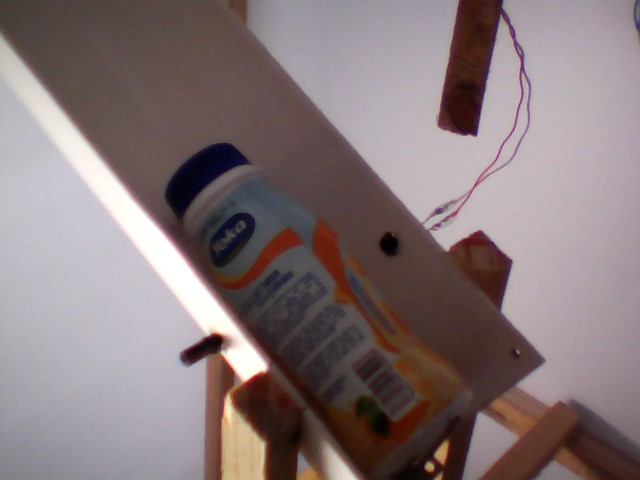plastico: (159, 137, 486, 480)
